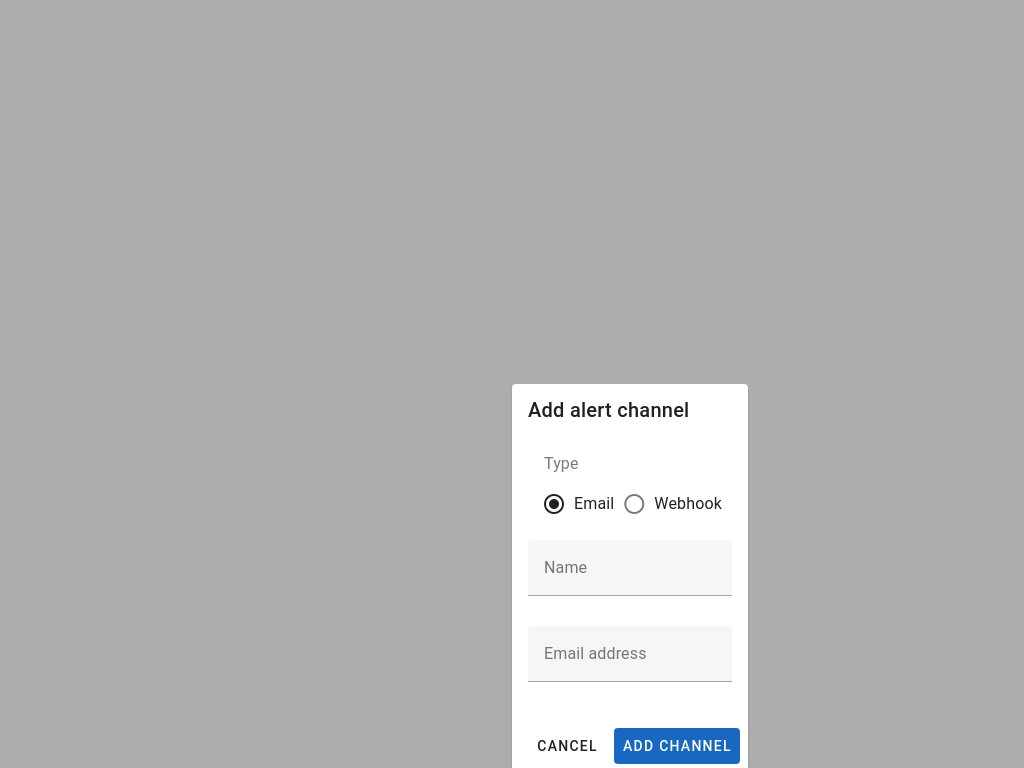
Test: AlertChannelDialog › shows field errors instead of saving an invalid webhook
Click the radio button labelled "Webhook": (688, 504) [654, 494, 722, 513]
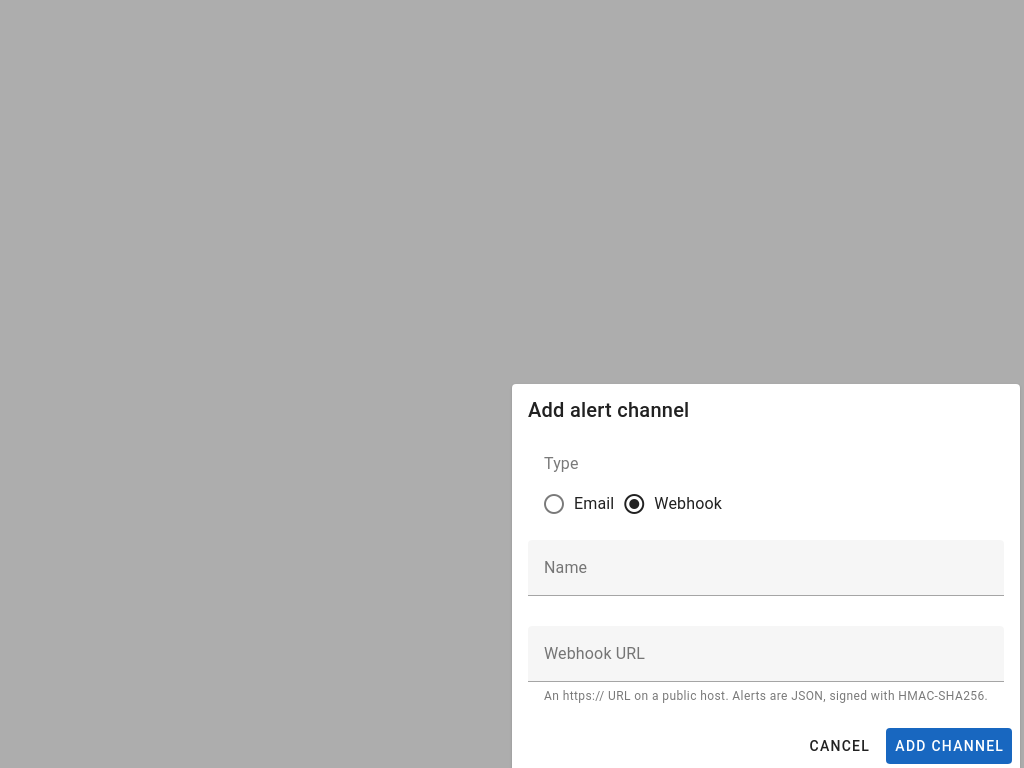
In the field labelled "Webhook URL": (766, 654) [528, 626, 1004, 682], type "http://hooks.example.com/x"
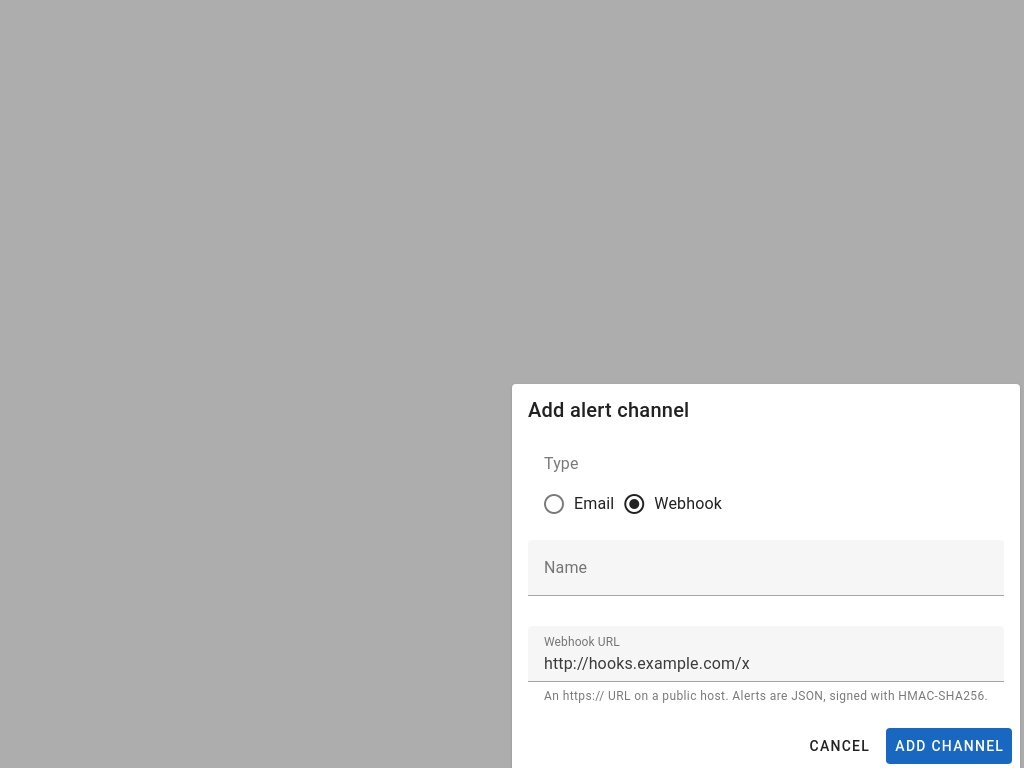
Click the button with test id "channel-save": (949, 746) [886, 728, 1012, 764]
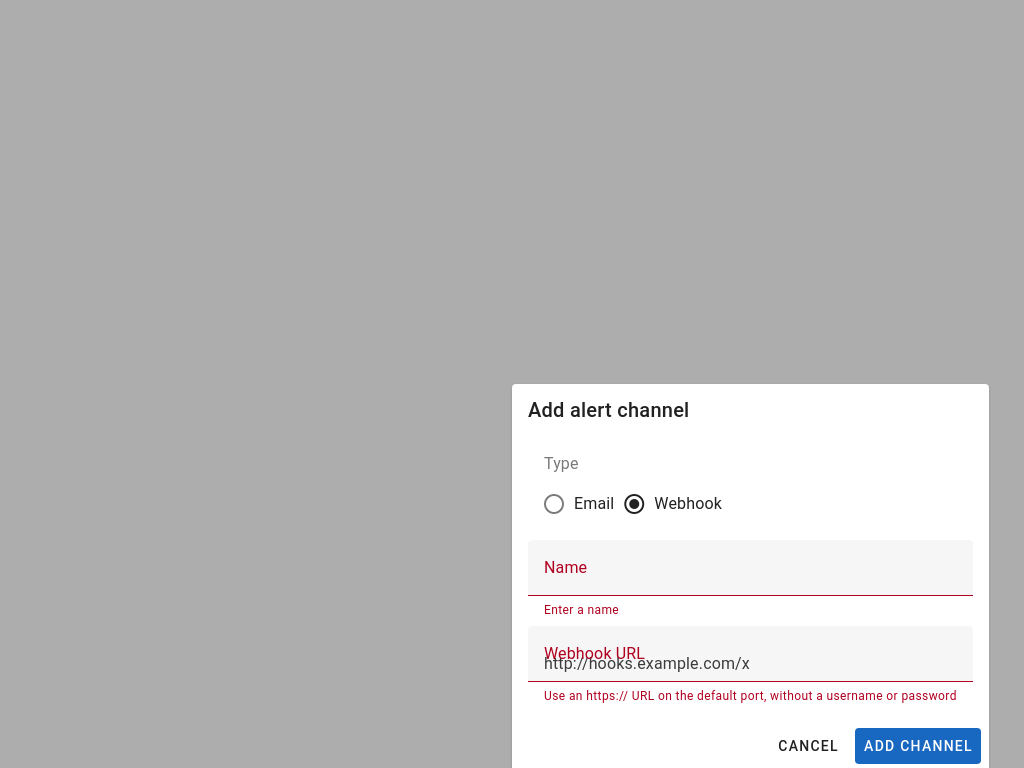
Check: the text "Enter a name" is shown, box [544, 603, 619, 617]
Check: the text "Use an https:// URL on the default port" is shown, box [544, 689, 957, 703]
